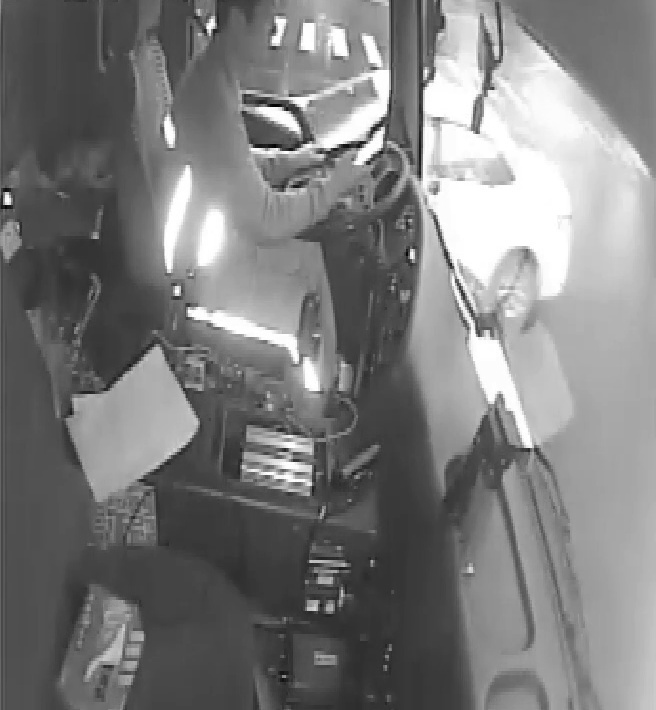cellphone: (338, 134, 383, 176)
